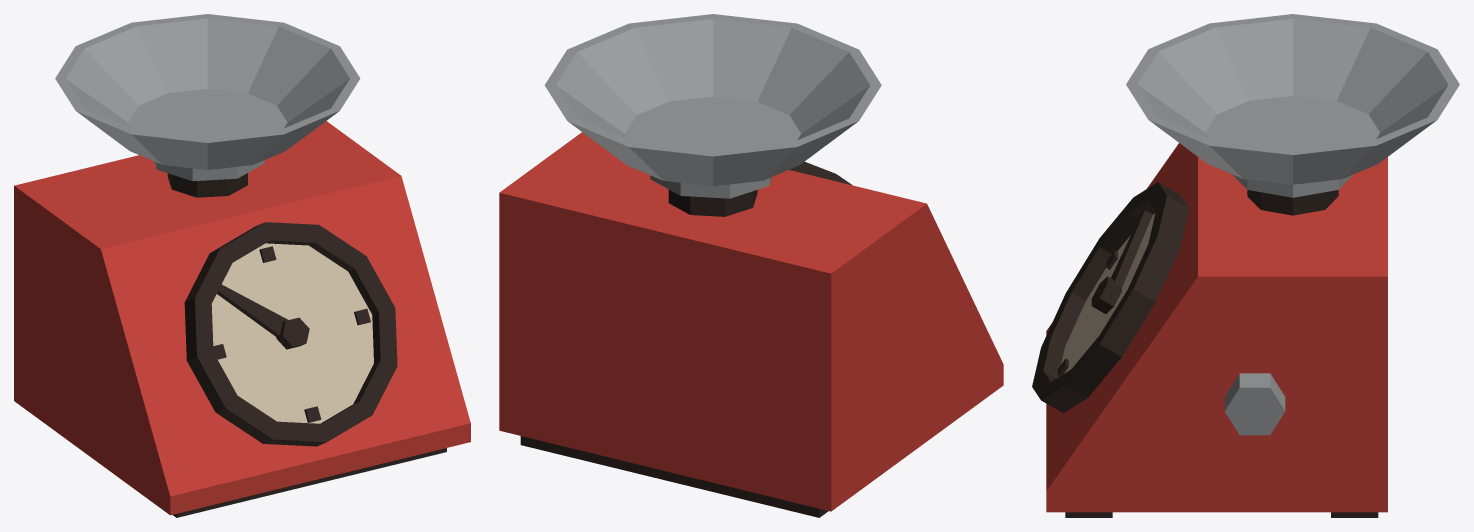
File: FN_Scales_Kitchen.obj
The picture shows the model from 3 angles, left to right: view 1: azimuth 30°, elevation 25°; view 2: azimuth 150°, elevation 25°; view 3: azimuth 270°, elevation 25°; orthographic projection. The views are drawn at different scales.
Visible parts, largest first — view 1: FN_Scales_Kitchen; view 2: FN_Scales_Kitchen; view 3: FN_Scales_Kitchen.
Part boxes in pixels (<box>): FN_Scales_Kitchen: <box>14,14,470,517</box>; FN_Scales_Kitchen: <box>499,14,1003,517</box>; FN_Scales_Kitchen: <box>1032,14,1459,517</box>.
Bounding box in the file's own units: 0.218 × 0.21 × 0.2255.
1 material, 1 textured.
